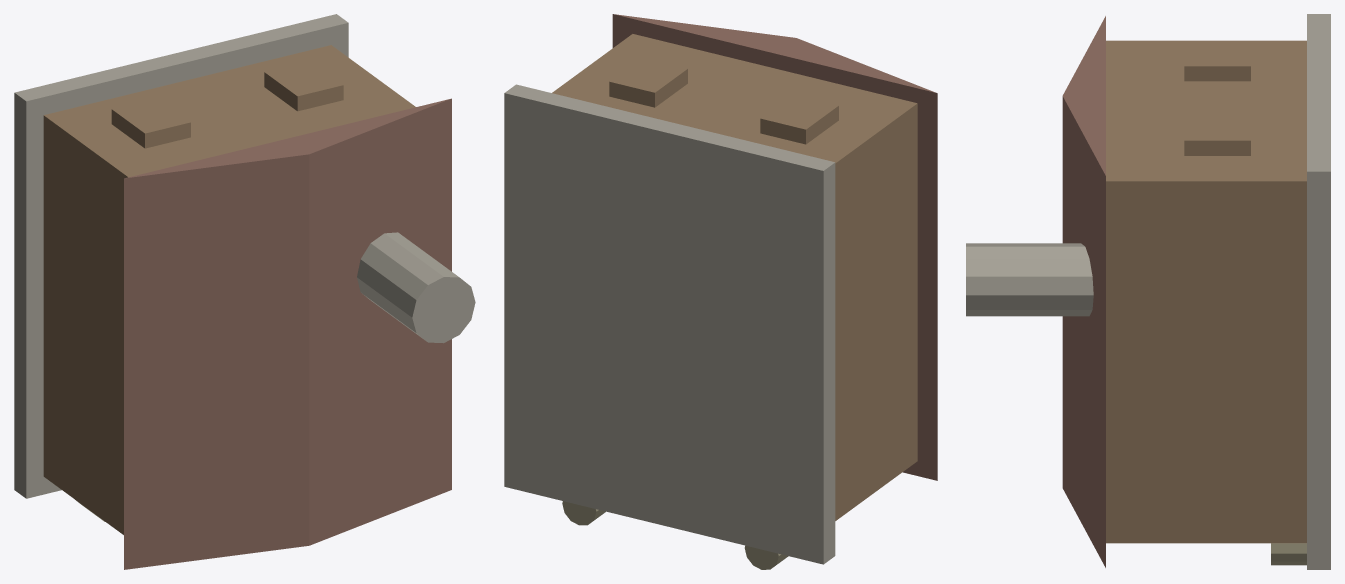
Rendered from AGE_I_industrial.glb.
3 renders of one model, left to right at view 1: azimuth 30°, elevation 25°; view 2: azimuth 150°, elevation 25°; view 3: azimuth 270°, elevation 25°, orthographic.
Visible parts, largest first — view 1: world; view 2: world; view 3: world.
Part boxes in pixels (x1,y1,x2,y2): world: [14, 14, 475, 569]; world: [504, 14, 937, 569]; world: [966, 14, 1330, 569].
Size of the model in its own units: 5.7 by 7.05 by 5.48.
